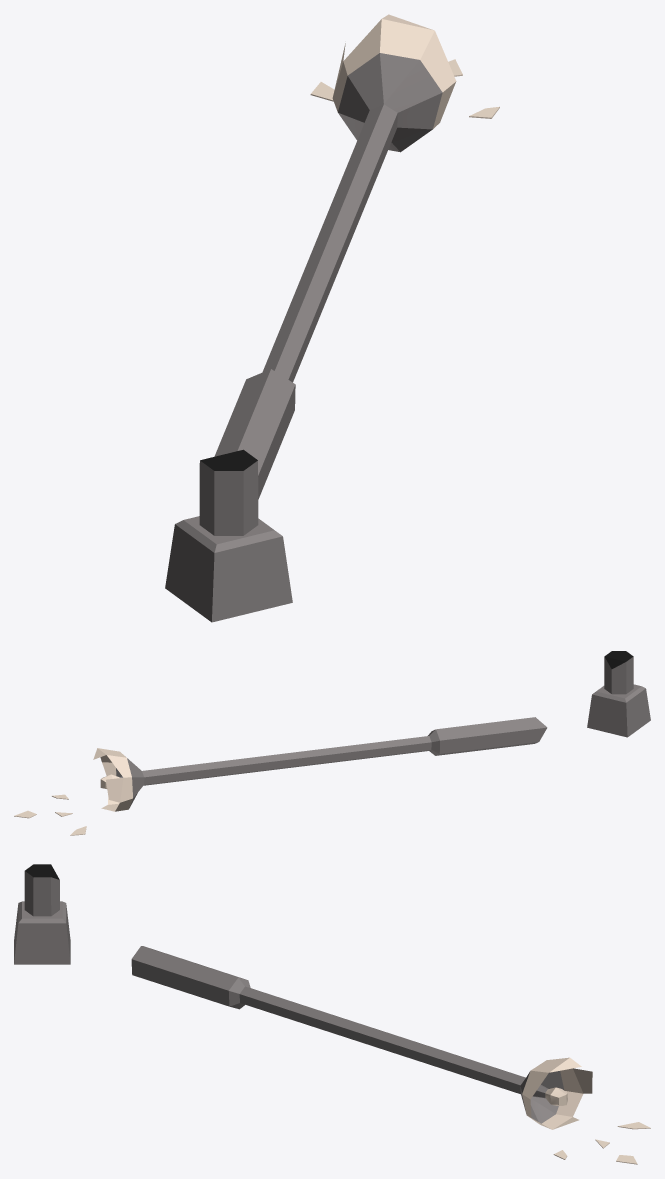
Rendered from apocalypse_lamp-city-apocalypse-b.fbx.
The picture shows the model from 3 angles, top to bottom: view 1: azimuth 30°, elevation 25°; view 2: azimuth 150°, elevation 25°; view 3: azimuth 270°, elevation 25°; orthographic projection. The views are drawn at different scales.
Parts seen in each view (by area): view 1: apocalypse_lamp_city_apocalypse_b; view 2: apocalypse_lamp_city_apocalypse_b; view 3: apocalypse_lamp_city_apocalypse_b.
Part boxes in pixels (bbox=[...]): apocalypse_lamp_city_apocalypse_b: bbox=[165, 14, 499, 622]; apocalypse_lamp_city_apocalypse_b: bbox=[14, 651, 650, 835]; apocalypse_lamp_city_apocalypse_b: bbox=[14, 864, 650, 1164].
Bounding box in the file's own units: 166 × 28.46 × 200.
